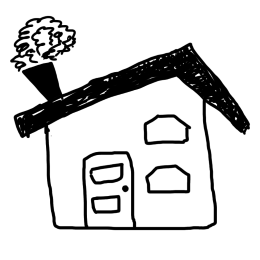door: (78, 144, 140, 233)
open_window: (134, 106, 197, 151), (143, 162, 195, 200)
shaded_roof: (9, 40, 253, 147)
smoking_chimney: (5, 13, 82, 106)
wall: (42, 88, 220, 238)
